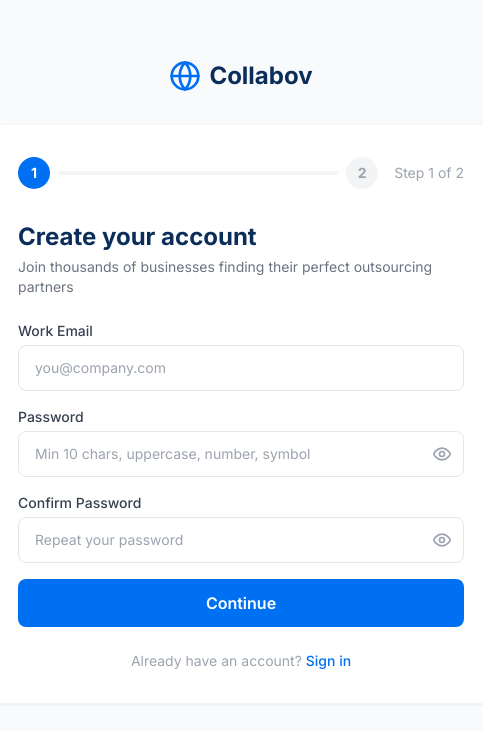
Test: Feature: Buyer Registration (3-step flow) › Scenario: Password must meet security requirements › should reject a password without a symbol
This screenshot has width=483, height=731.
Type "a@b.com" into the field with placeholder "you@company.com".
click(241, 368); type("a@b.com")  # box [18,345,464,391]
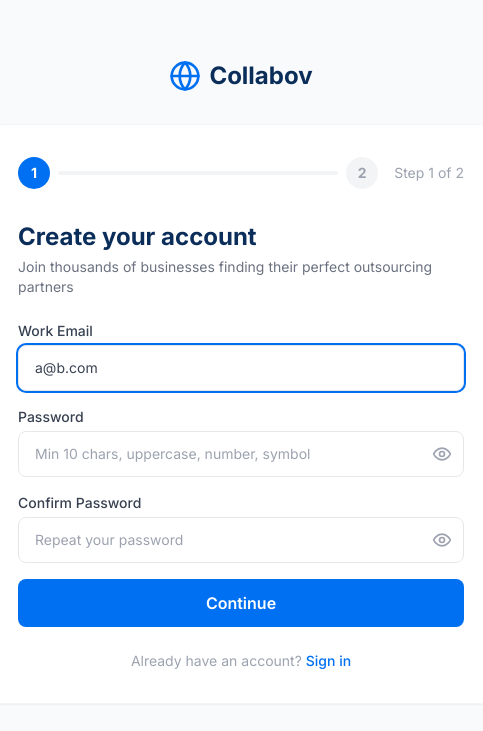
Type "NoSymbol1234" into the password field with placeholder "Min 10 chars, uppercase, number, symbol".
click(241, 454); type("NoSymbol1234")  # box [18,431,464,477]
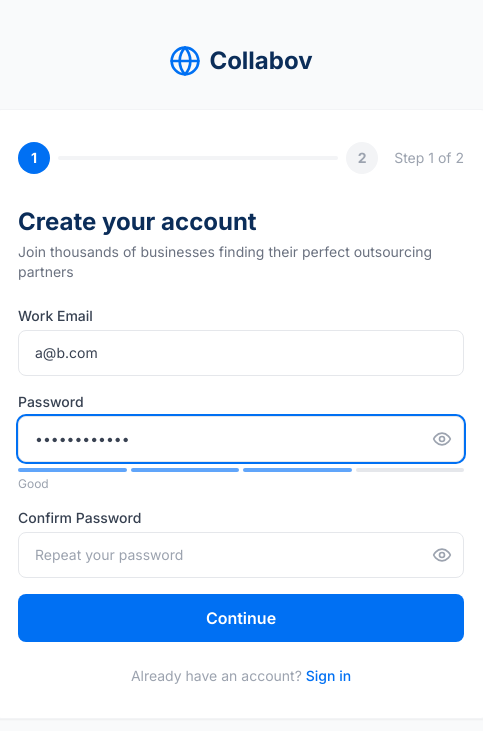
Type "NoSymbol1234" into the password field with placeholder "Repeat your password".
click(241, 555); type("NoSymbol1234")  # box [18,532,464,578]
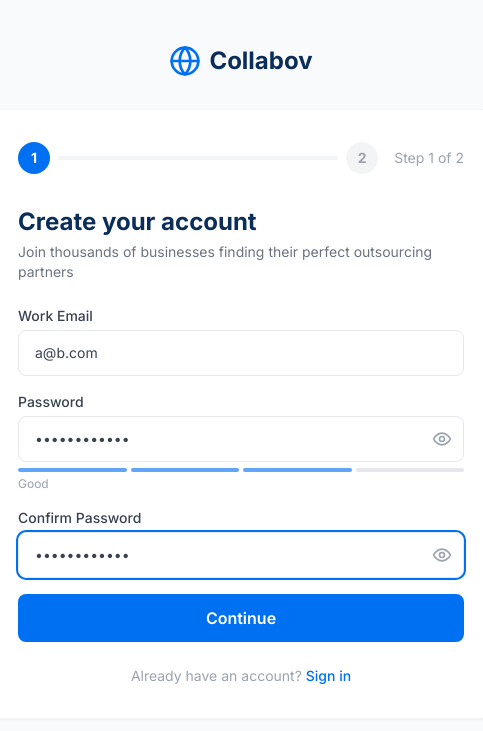
Click the button "Continue".
click(241, 618)  # box [18,594,464,642]
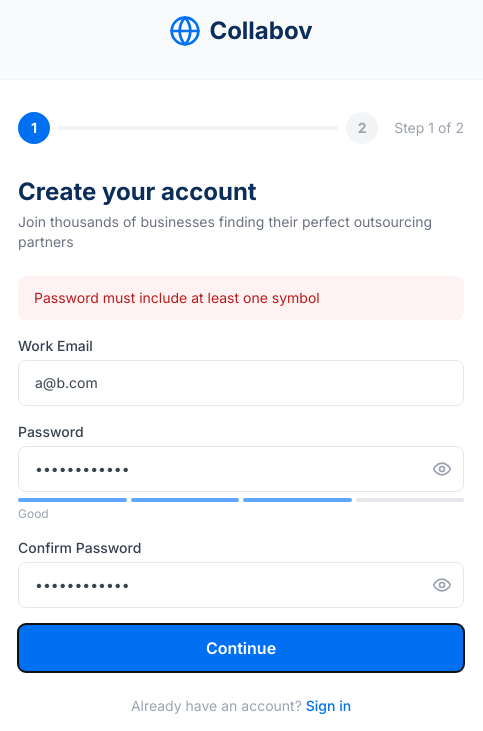
Check: the text "Password must include at least one symbol" is shown, box [18,276,464,320]
